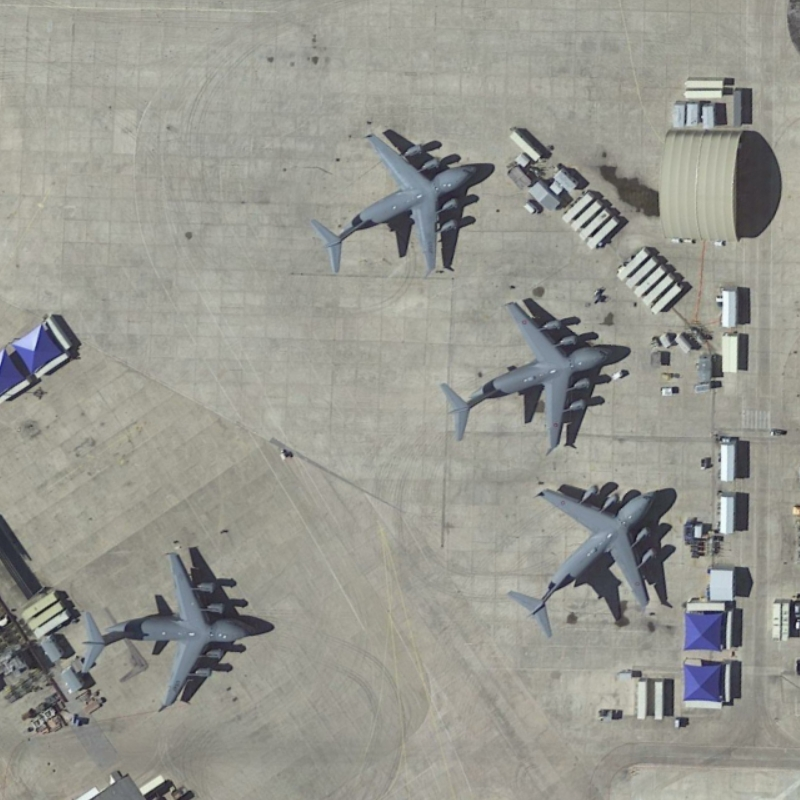A3: (77, 543, 257, 721), (433, 295, 620, 459), (499, 478, 674, 646), (303, 125, 481, 281)
